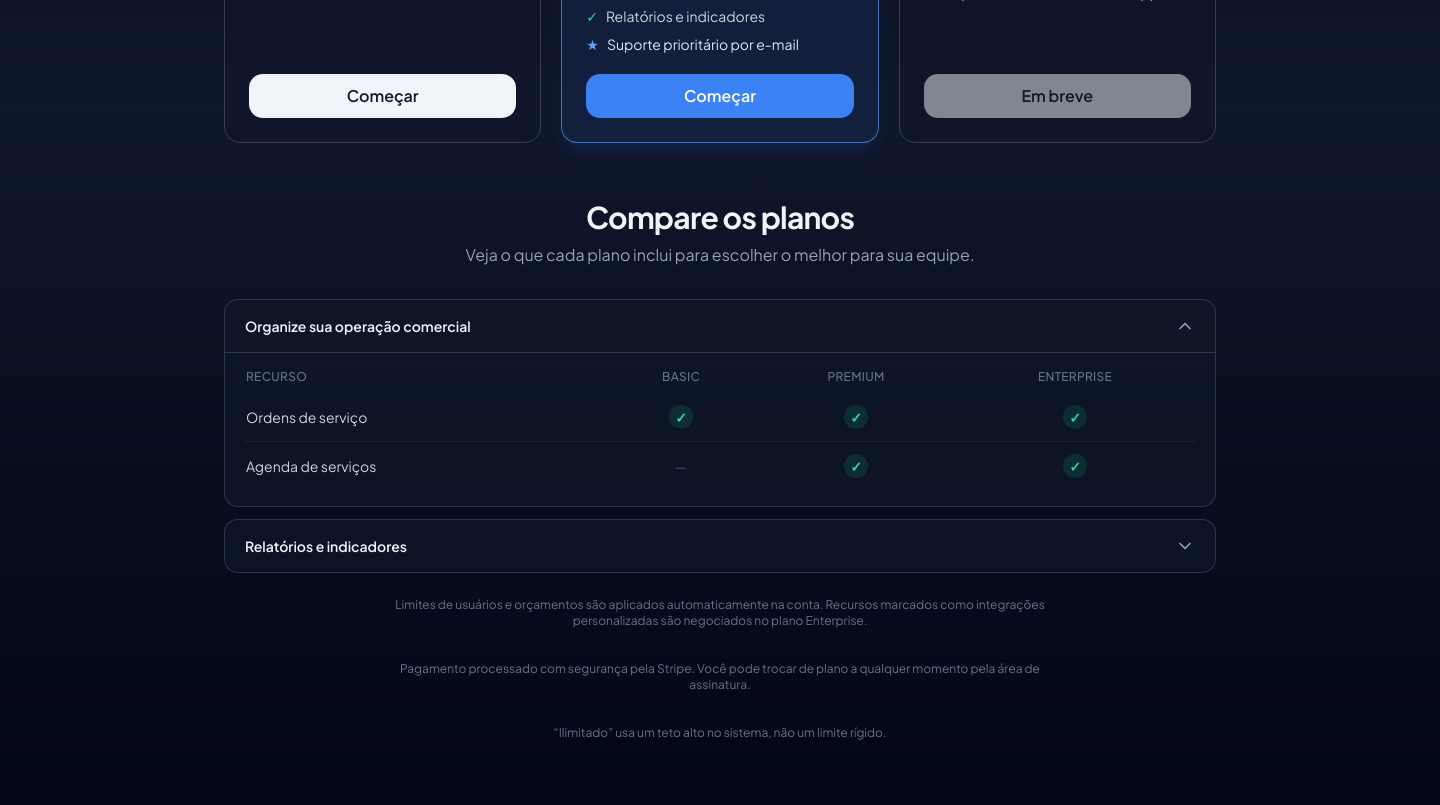
Test: Planos › exibe a comparação detalhada em accordion
This screenshot has width=1440, height=805.
(page scrolled)
Expected: the heading "Compare os planos" is shown, [586, 198, 854, 236]
Expected: the column heading "Ordens de serviço" is shown, [245, 393, 605, 442]
Click the button "Relatórios e indicadores". click: (326, 546)
box: [225, 520, 1215, 572]
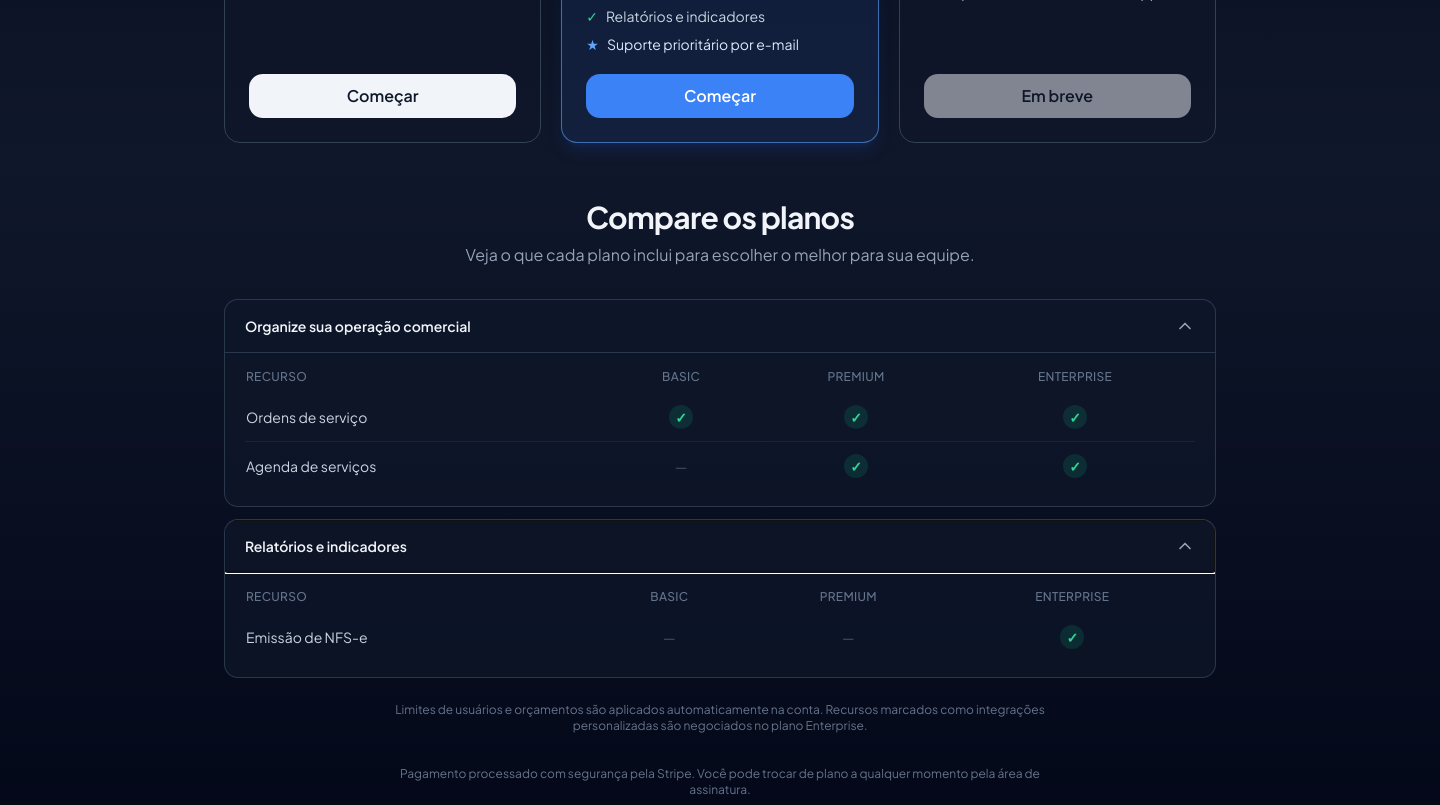
Expected: the button "Relatórios e indicadores" is expanded, [225, 520, 1215, 572]
Expected: the column heading "Emissão de NFS-e" is shown, [245, 613, 592, 661]
